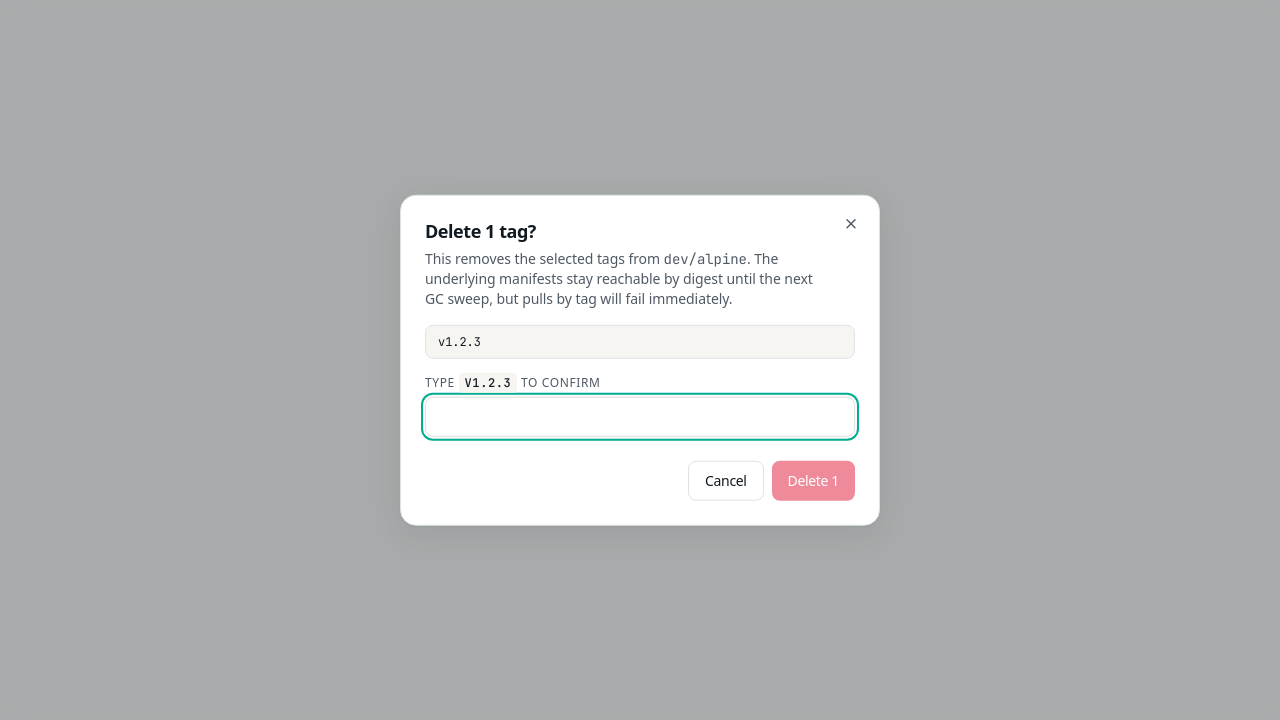
Scenario: BulkDeleteTagsDialog confirm gate › single-tag delete asks for the tag name (not the count)
The width and height of the screenshot is (1280, 720).
Type "1" into the field labelled "Type v1.2.3 to confirm". click: {"x": 640, "y": 416}
box: left=425, top=396, right=855, bottom=436
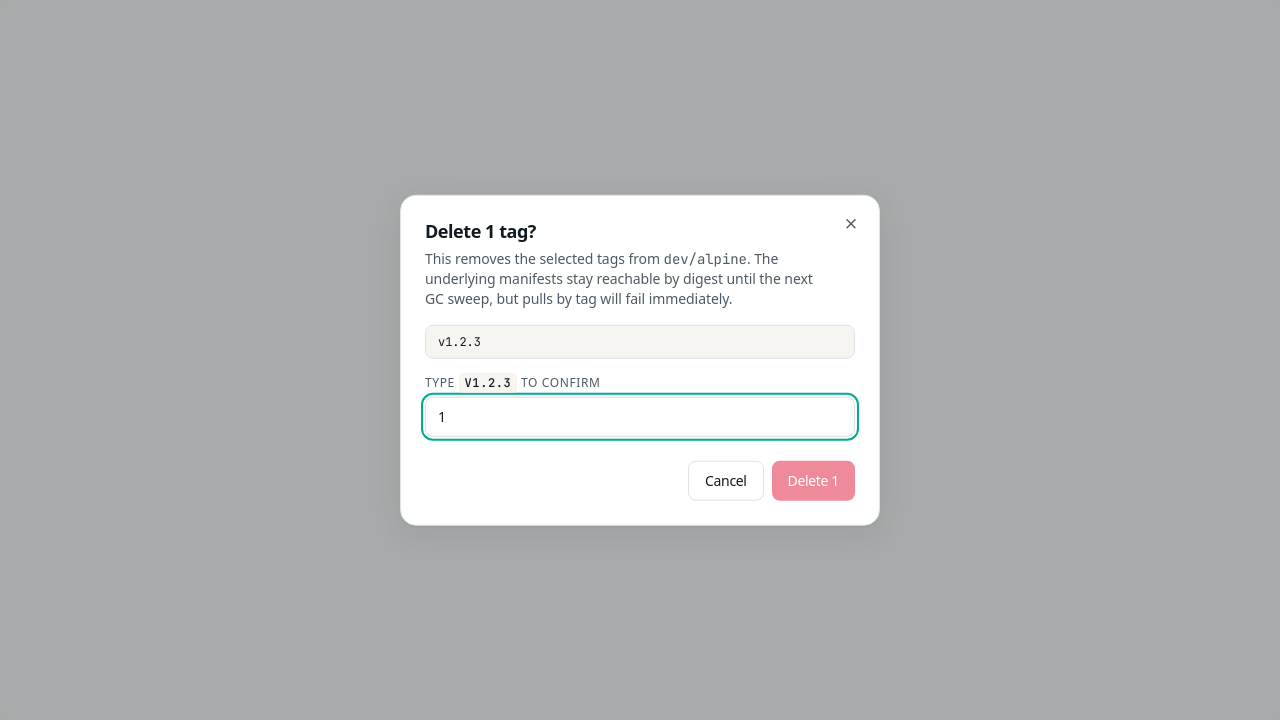
Expected: the button "Delete 1" is disabled, left=772, top=460, right=855, bottom=500
Note: Typing the actual tag name enables confirm.
Replace the text in the field labelled "Type v1.2.3 to confirm" with "v1.2.3". click: {"x": 640, "y": 416}
box: left=425, top=396, right=855, bottom=436
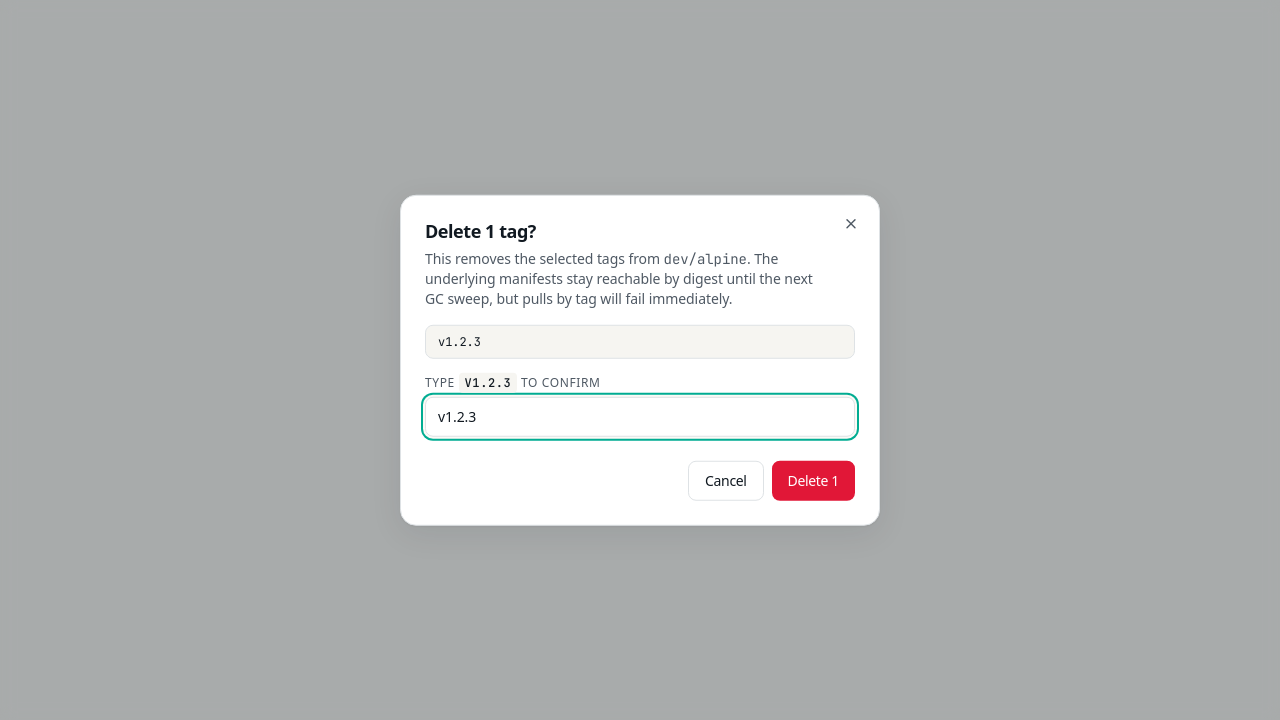
Now the button "Delete 1" is enabled, box left=772, top=460, right=855, bottom=500
